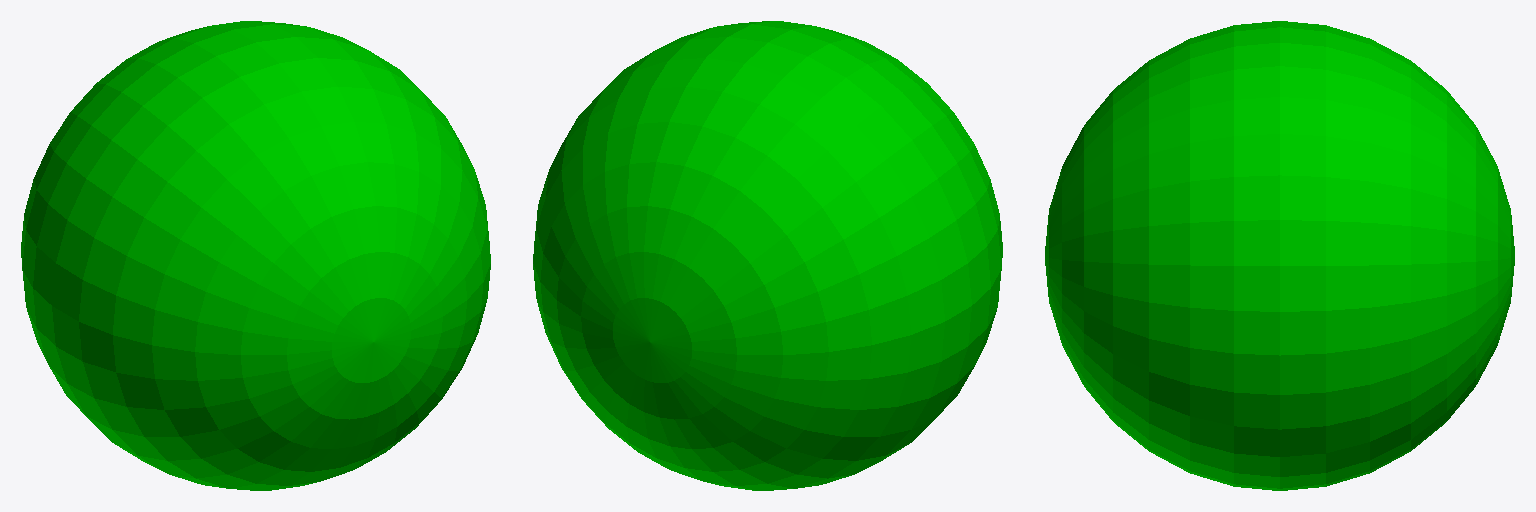
robot.urdf — A_vs_B:
<?xml version="1.0"?>
<robot name="A_vs_B">
  <material name="blue">
    <color rgba="0 0 0.8 .5"/>
  </material>
  <material name="green">
    <color rgba="0 0.8 0 .5"/>
  </material>
  <link name="A">
    <visual>
      <geometry>
        <mesh filename="package://exotica_examples/test/resources/cube.obj"/>
      </geometry>
      <origin rpy="0.0 0 0" xyz="-1.5 0 0"/>
      <material name="blue"/>
    </visual>
  </link>
  <link name="B">
    <visual>
      <geometry>
        <mesh filename="package://exotica_examples/test/resources/uvsphere.obj"/>
      </geometry>
      <origin rpy="0 0 0" xyz="1.5 0 0"/>
      <material name="green"/>
    </visual>
  </link>
  <joint name="joint1" type="revolute">
    <axis xyz="0 0 1"/>
    <limit effort="1" lower="-1" upper="1" velocity="1"/>
    <origin rpy="0 0 0" xyz="0 0 0"/>
    <parent link="A"/>
    <child link="B"/>
  </joint>
</robot>

--- Facts derived from the render (not from the file) ---
3 views of the same robot in one strip: view 1: azimuth 30°, elevation 25°; view 2: azimuth 150°, elevation 25°; view 3: azimuth 270°, elevation 25° (orthographic).
Robot: A_vs_B — 2 links, 1 joints (1 revolute); root link A; default pose: all joints at 0.
Links seen in each view (by area): view 1: B; view 2: B; view 3: B.
Link boxes in pixels (x1,y1,x2,y2): B: [21, 21, 490, 490]; B: [533, 21, 1002, 490]; B: [1045, 21, 1514, 490].
Bounding box of the posed robot: 2 × 2 × 2 m (x, y, z).
1 mesh visuals loaded from 2 distinct referenced files (1 OBJ); not drawn: 1 (reference not matched to a file when rendering).